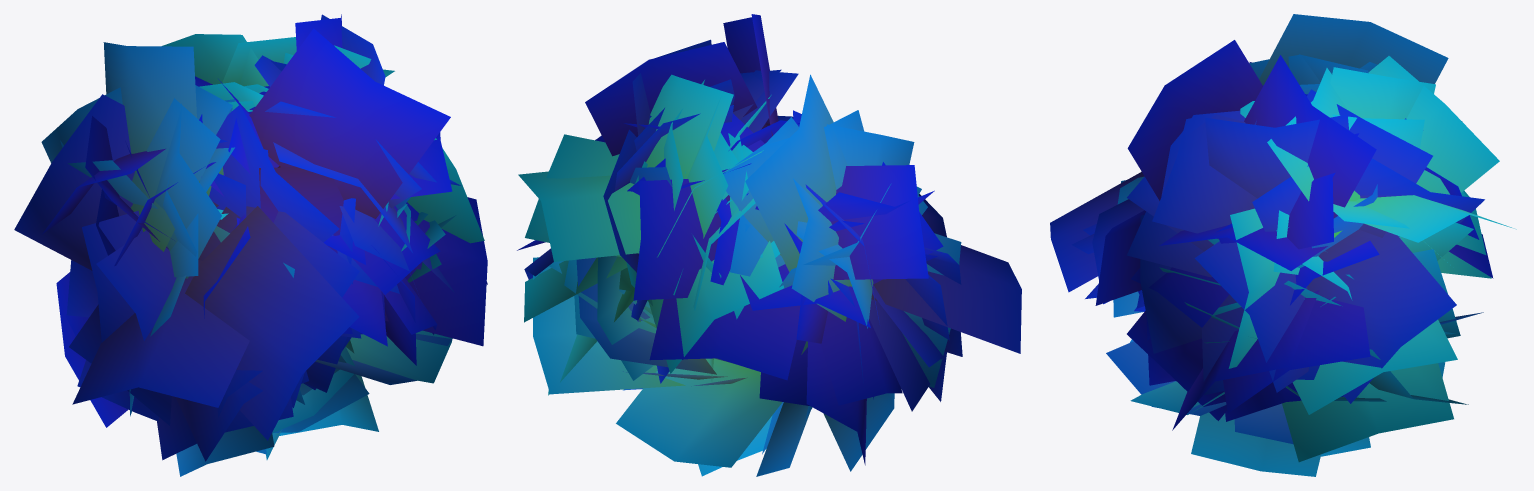
File: SM_Bush_Hawthorn_A_LOD2.fbx
3 views of the same model, side by side, from view 1: azimuth 30°, elevation 25°; view 2: azimuth 150°, elevation 25°; view 3: azimuth 270°, elevation 25° (orthographic). The views are drawn at different scales.
Parts seen in each view (by area): view 1: SM_Bush_Hawthorn_A_LOD2; view 2: SM_Bush_Hawthorn_A_LOD2; view 3: SM_Bush_Hawthorn_A_LOD2.
Boxes of the visible parts, x1=… form: SM_Bush_Hawthorn_A_LOD2: x1=14, y1=14, x2=487, y2=476; SM_Bush_Hawthorn_A_LOD2: x1=517, y1=14, x2=1021, y2=476; SM_Bush_Hawthorn_A_LOD2: x1=1050, y1=14, x2=1516, y2=476.
Bounding box in the file's own units: 1.43 × 1.33 × 1.31.
